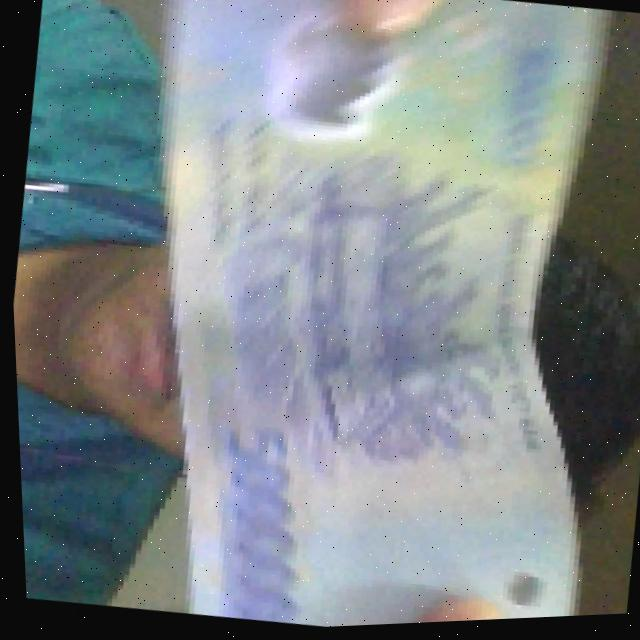500 000 VND: (83, 0, 640, 637)
